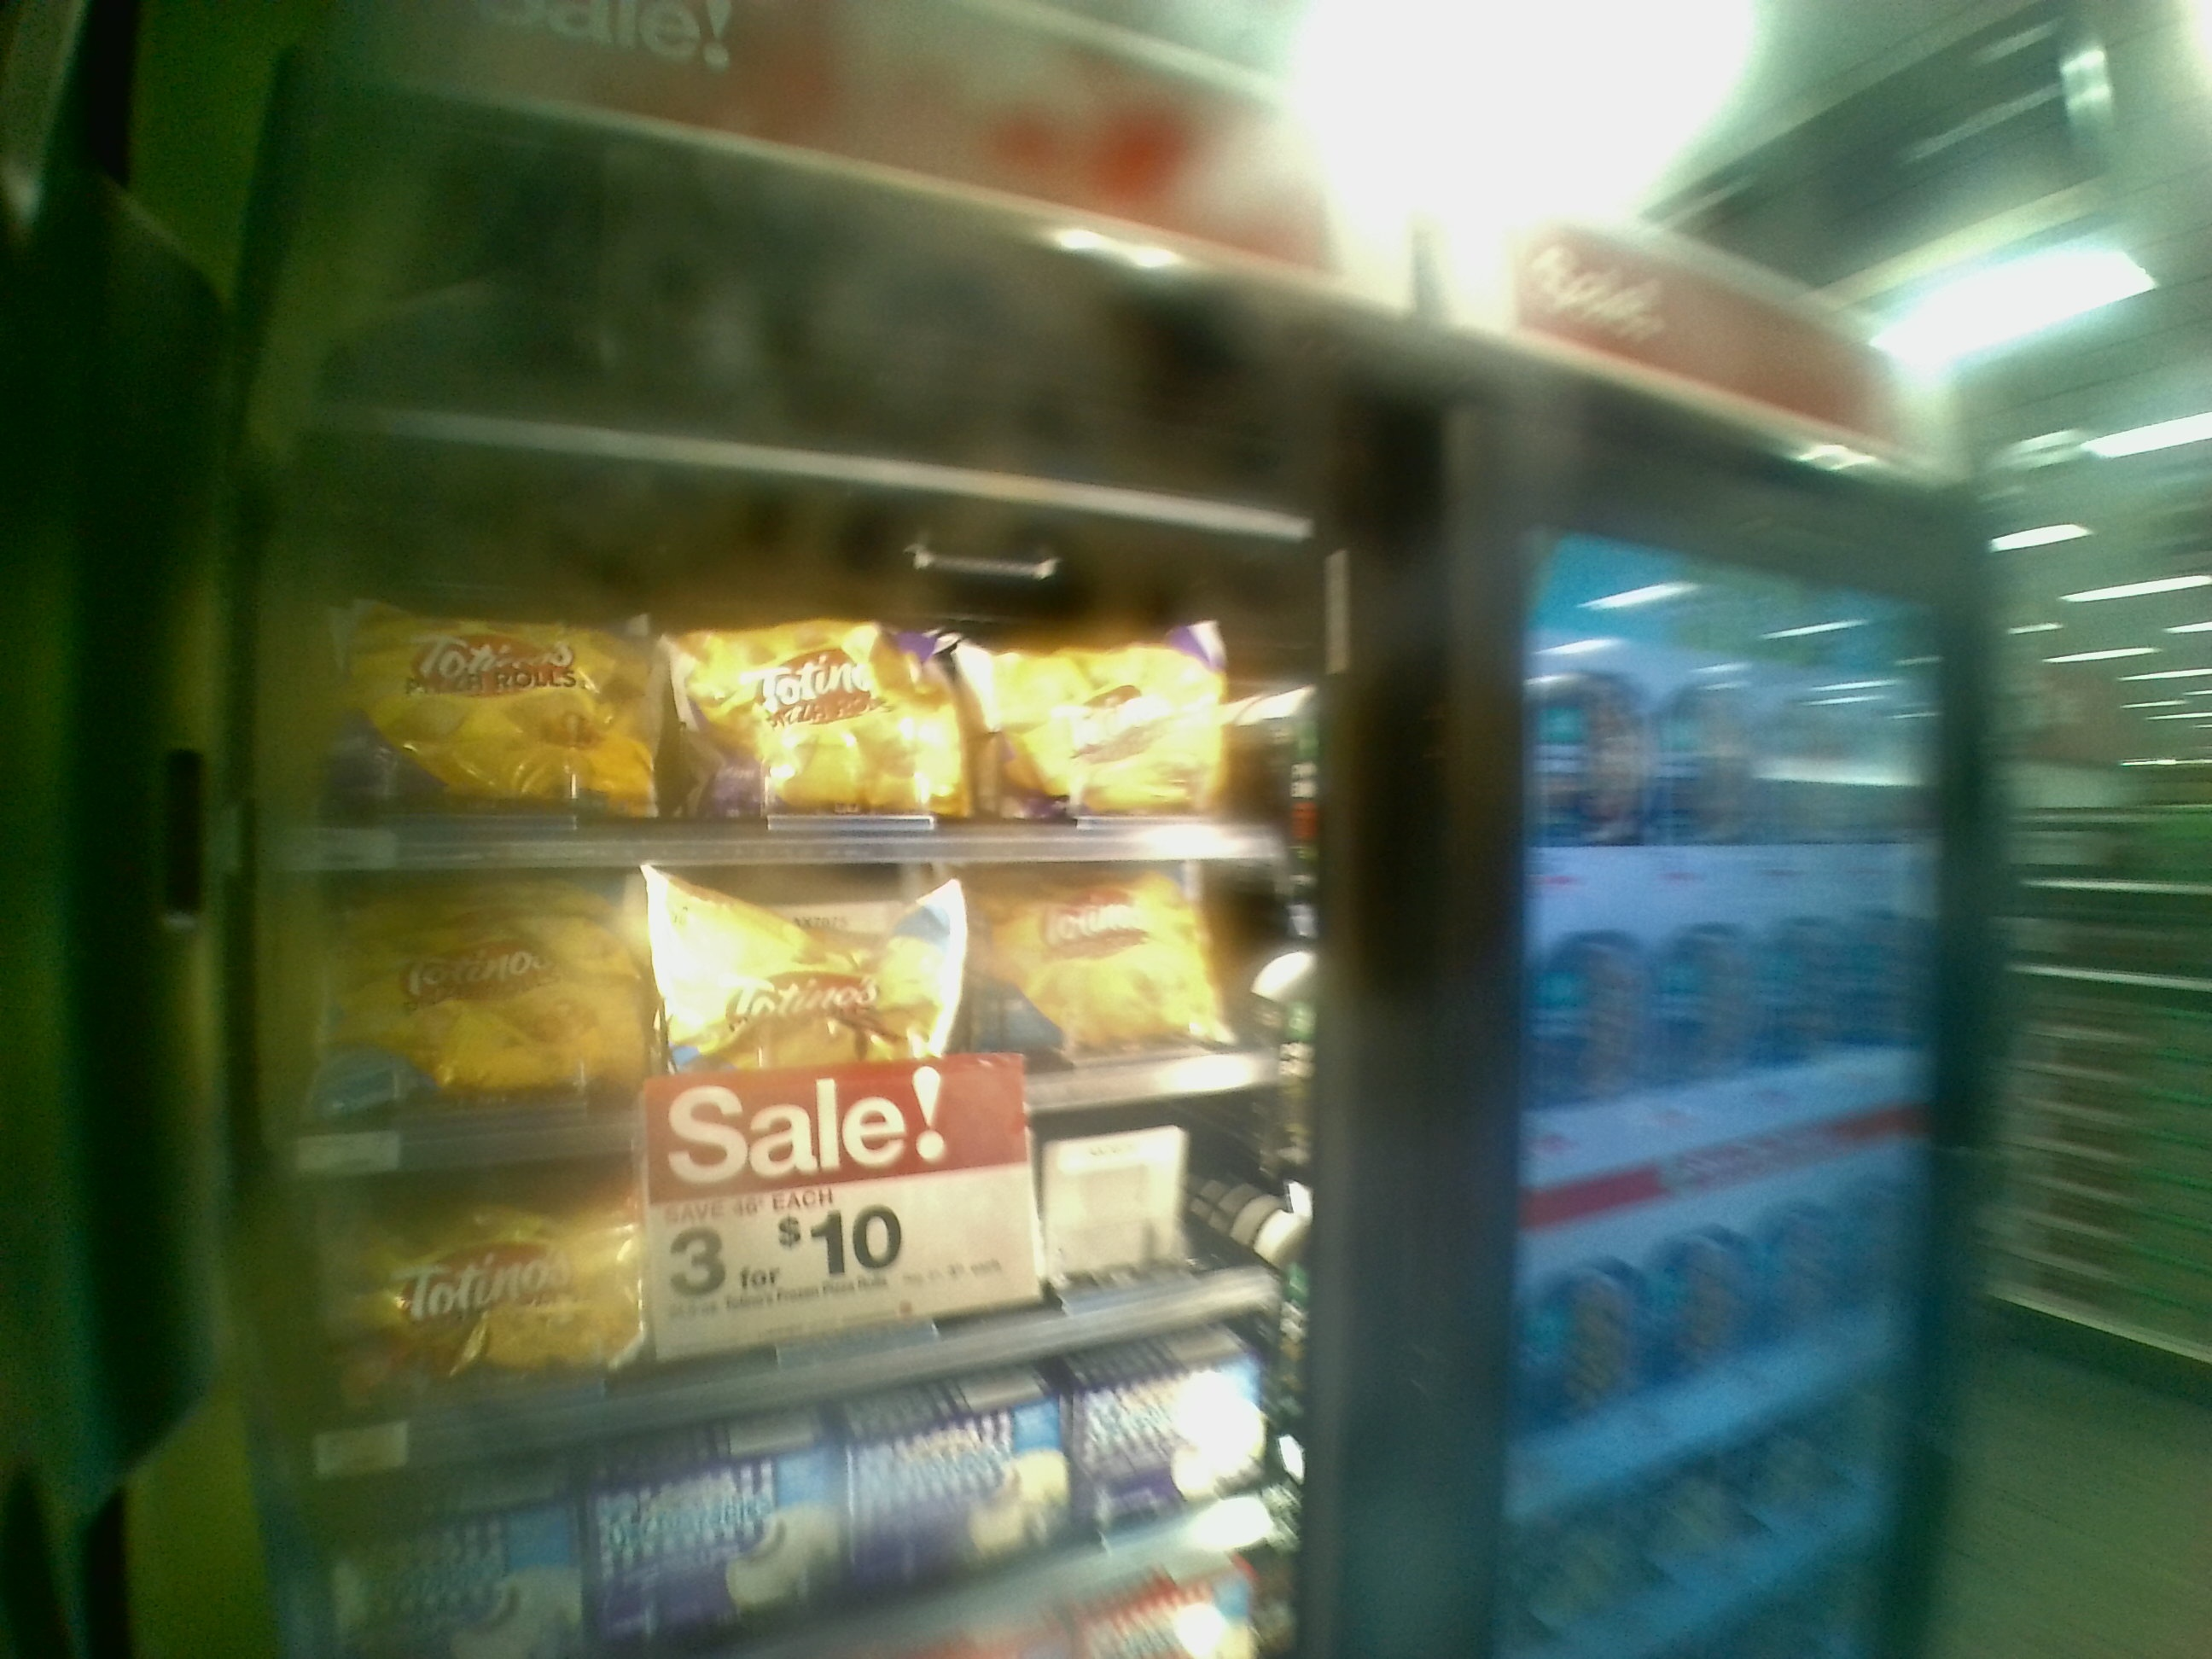shelf: (296, 418, 1303, 864), (291, 854, 1299, 1161), (301, 1134, 1285, 1438)
